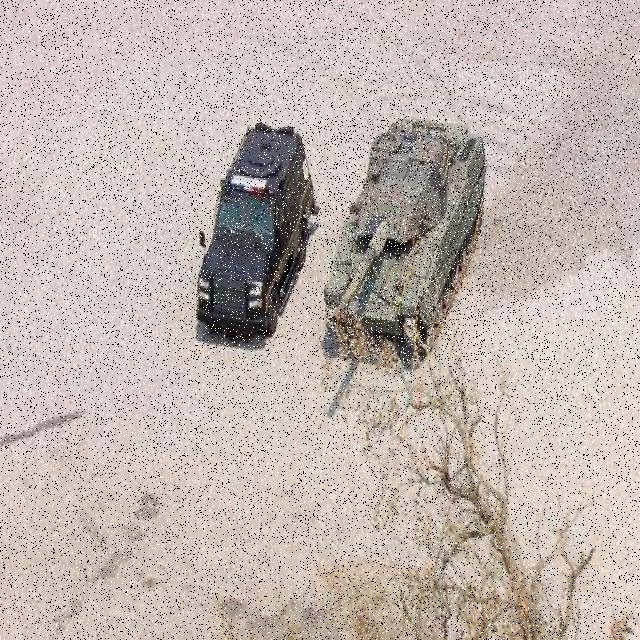MIL_MBT: (325, 119, 486, 364)
